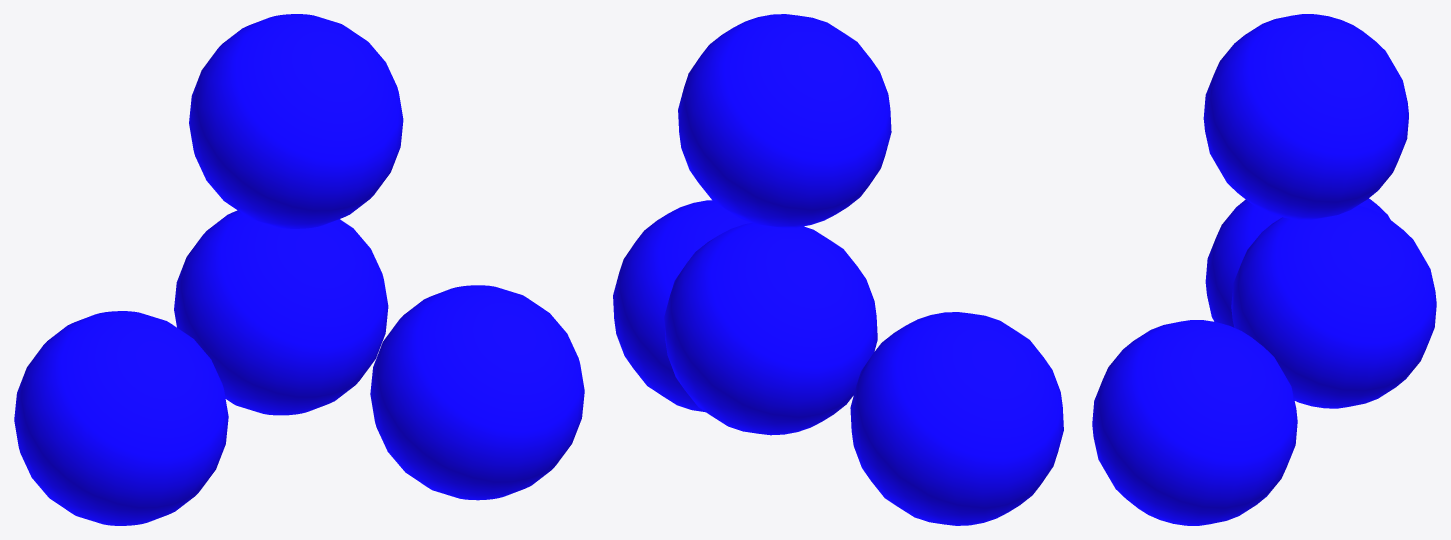
The model's file is blueatom.glb.
3 renders of one model, left to right at view 1: azimuth 30°, elevation 25°; view 2: azimuth 150°, elevation 25°; view 3: azimuth 270°, elevation 25°, orthographic. The views are drawn at different scales.
Parts seen in each view (by area): view 1: Sphere, Sphere.2, Sphere.1, Sphere.3; view 2: Sphere.2, Sphere.1, Sphere.3, Sphere; view 3: Sphere, Sphere.2, Sphere.3, Sphere.1.
Part boxes in pixels (box(x1,y1,x2,y2)): Sphere: box(370, 285, 584, 500); Sphere.2: box(189, 14, 403, 228); Sphere.1: box(14, 311, 228, 525); Sphere.3: box(174, 210, 388, 415); Sphere.2: box(678, 14, 891, 227); Sphere.1: box(850, 312, 1063, 525); Sphere.3: box(664, 223, 877, 435); Sphere: box(613, 200, 751, 412); Sphere: box(1092, 320, 1297, 525); Sphere.2: box(1203, 14, 1408, 219); Sphere.3: box(1231, 205, 1436, 408); Sphere.1: box(1205, 198, 1390, 327).
Bounding box in the file's own units: 12.03 × 10.81 × 7.76.
